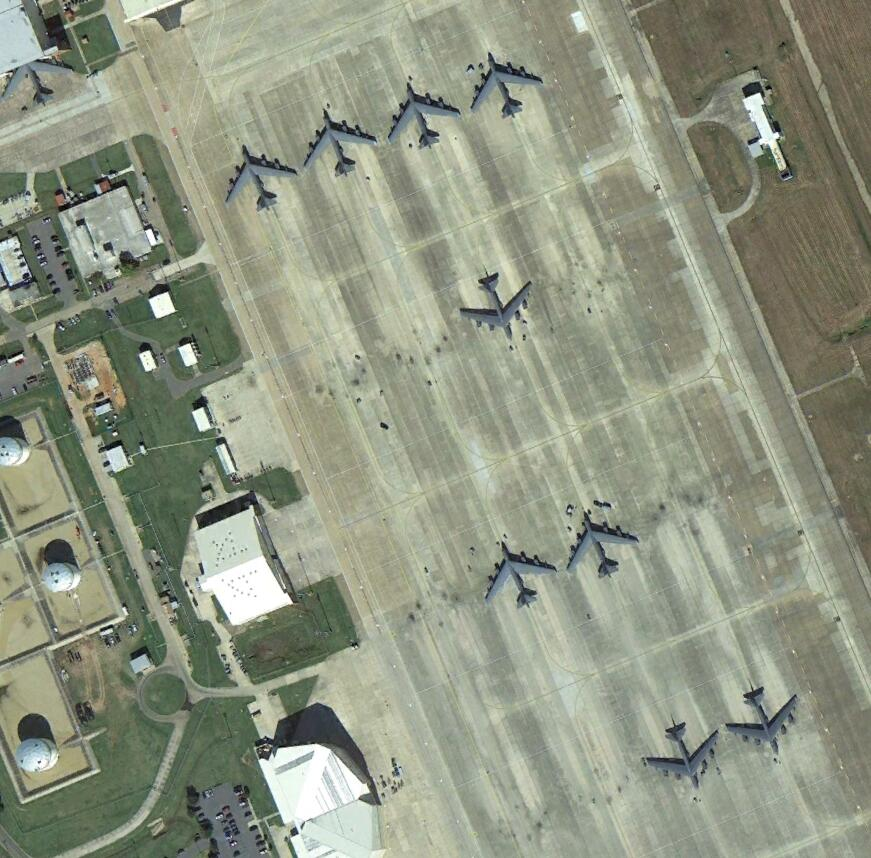A8: (476, 533, 558, 612), (562, 508, 644, 587), (728, 679, 802, 764), (456, 268, 536, 344), (384, 80, 465, 154), (644, 719, 721, 796), (218, 144, 298, 215), (305, 106, 379, 178), (471, 52, 545, 121)
